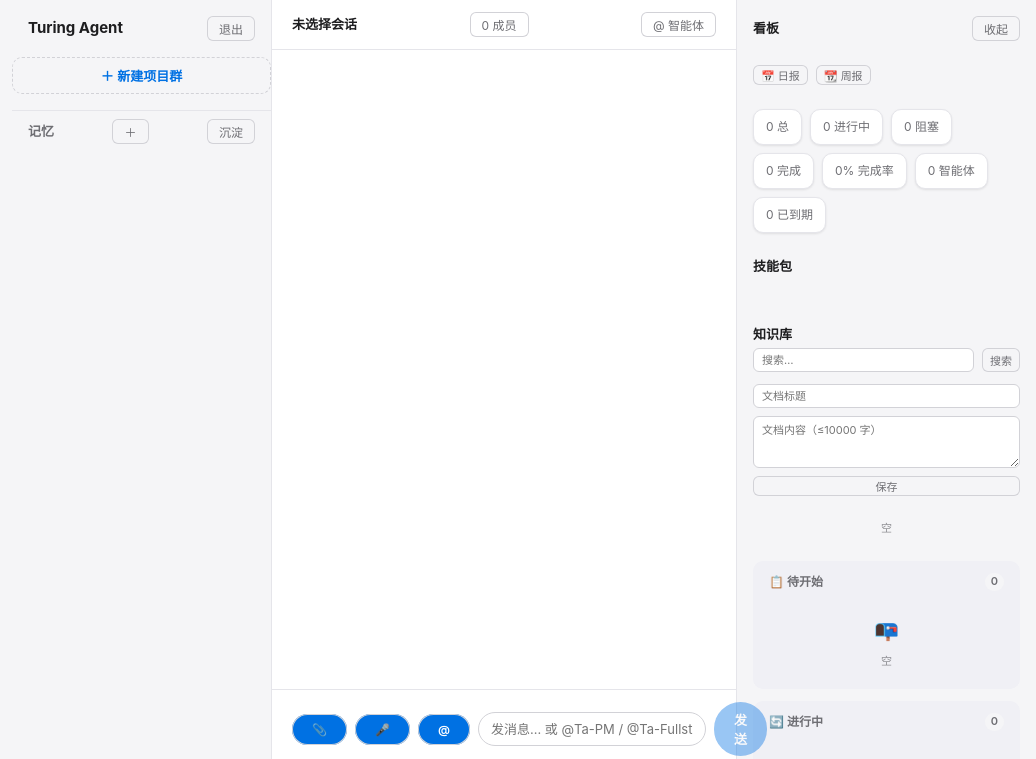
Test: Chat › uploads audio blob when speech degrades
Press the mouse on the button "🎤": (382, 729) [355,714,410,744]
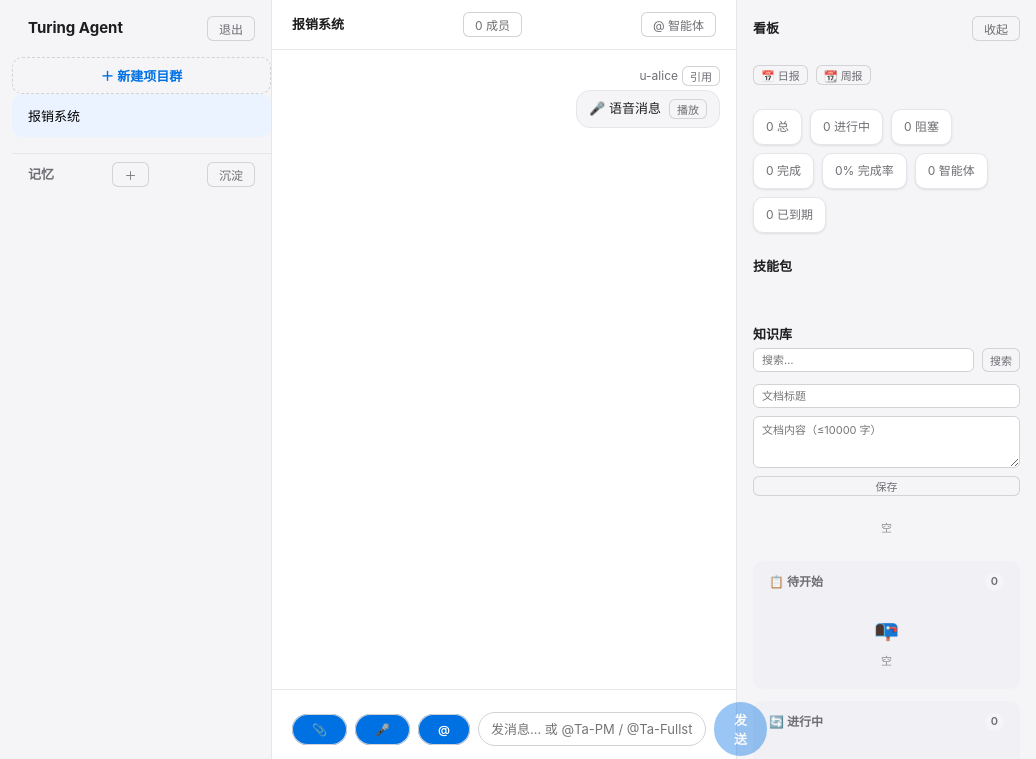
Expected: the text "🎤 语音消息" is shown, [589,99,661,119]
Expected: the button "播放" is shown, [669,99,707,119]
